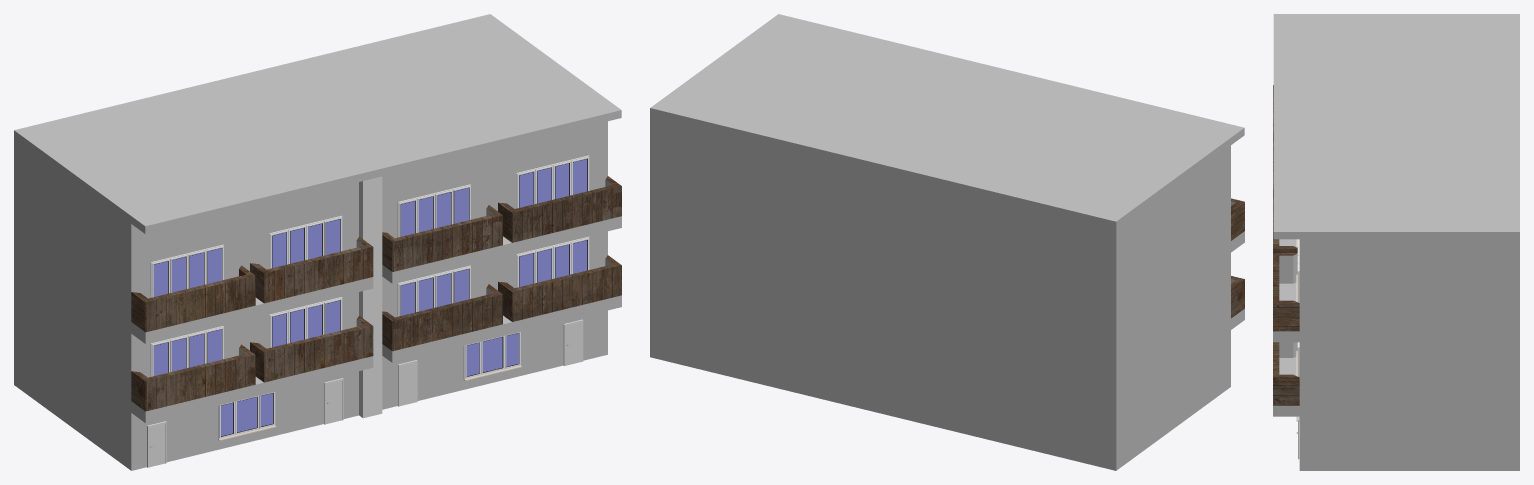
The model's file is building 5v2.fbx.
3 views of the same model, side by side, from view 1: azimuth 30°, elevation 25°; view 2: azimuth 150°, elevation 25°; view 3: azimuth 270°, elevation 25° (orthographic). The views are drawn at different scales.
Parts seen in each view (by area): view 1: Plane, Window.004, Window.008, Window.006, Window.009, Window.003, Window.005, Window.007, Window.002, Window, Window.001, Door.001 (+3 smaller); view 2: Plane; view 3: Plane.
Boxes of the visible parts, x1,y1,x2,y2 form: Plane: [14, 14, 621, 470]; Window.004: [150, 244, 223, 297]; Window.008: [397, 184, 470, 237]; Window.006: [516, 155, 589, 208]; Window.009: [269, 215, 342, 268]; Window.003: [397, 265, 470, 316]; Window.005: [516, 236, 589, 287]; Window.007: [150, 326, 223, 376]; Window.002: [269, 297, 342, 347]; Window: [463, 331, 521, 380]; Window.001: [218, 392, 276, 440]; Door.001: [400, 362, 415, 405]; Plane: [650, 14, 1244, 470]; Plane: [1273, 14, 1519, 470].
Bounding box in the file's own units: 2523 × 1289 × 1207.
